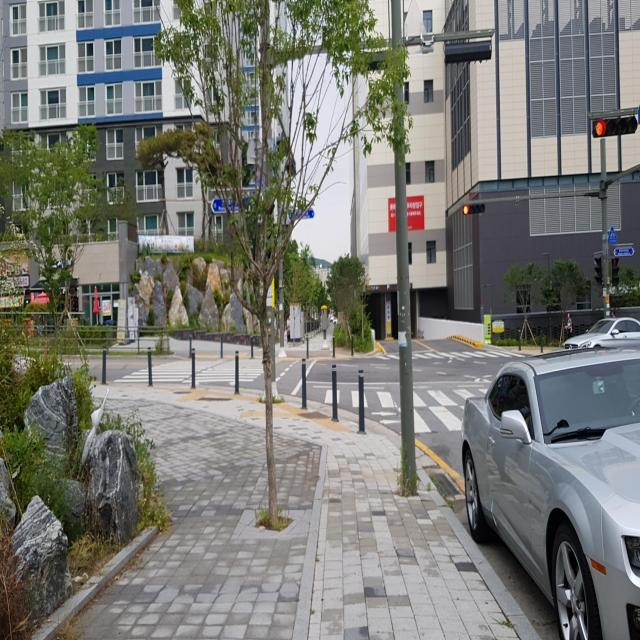횡단보도: (321, 381, 463, 437), (112, 359, 282, 386)
